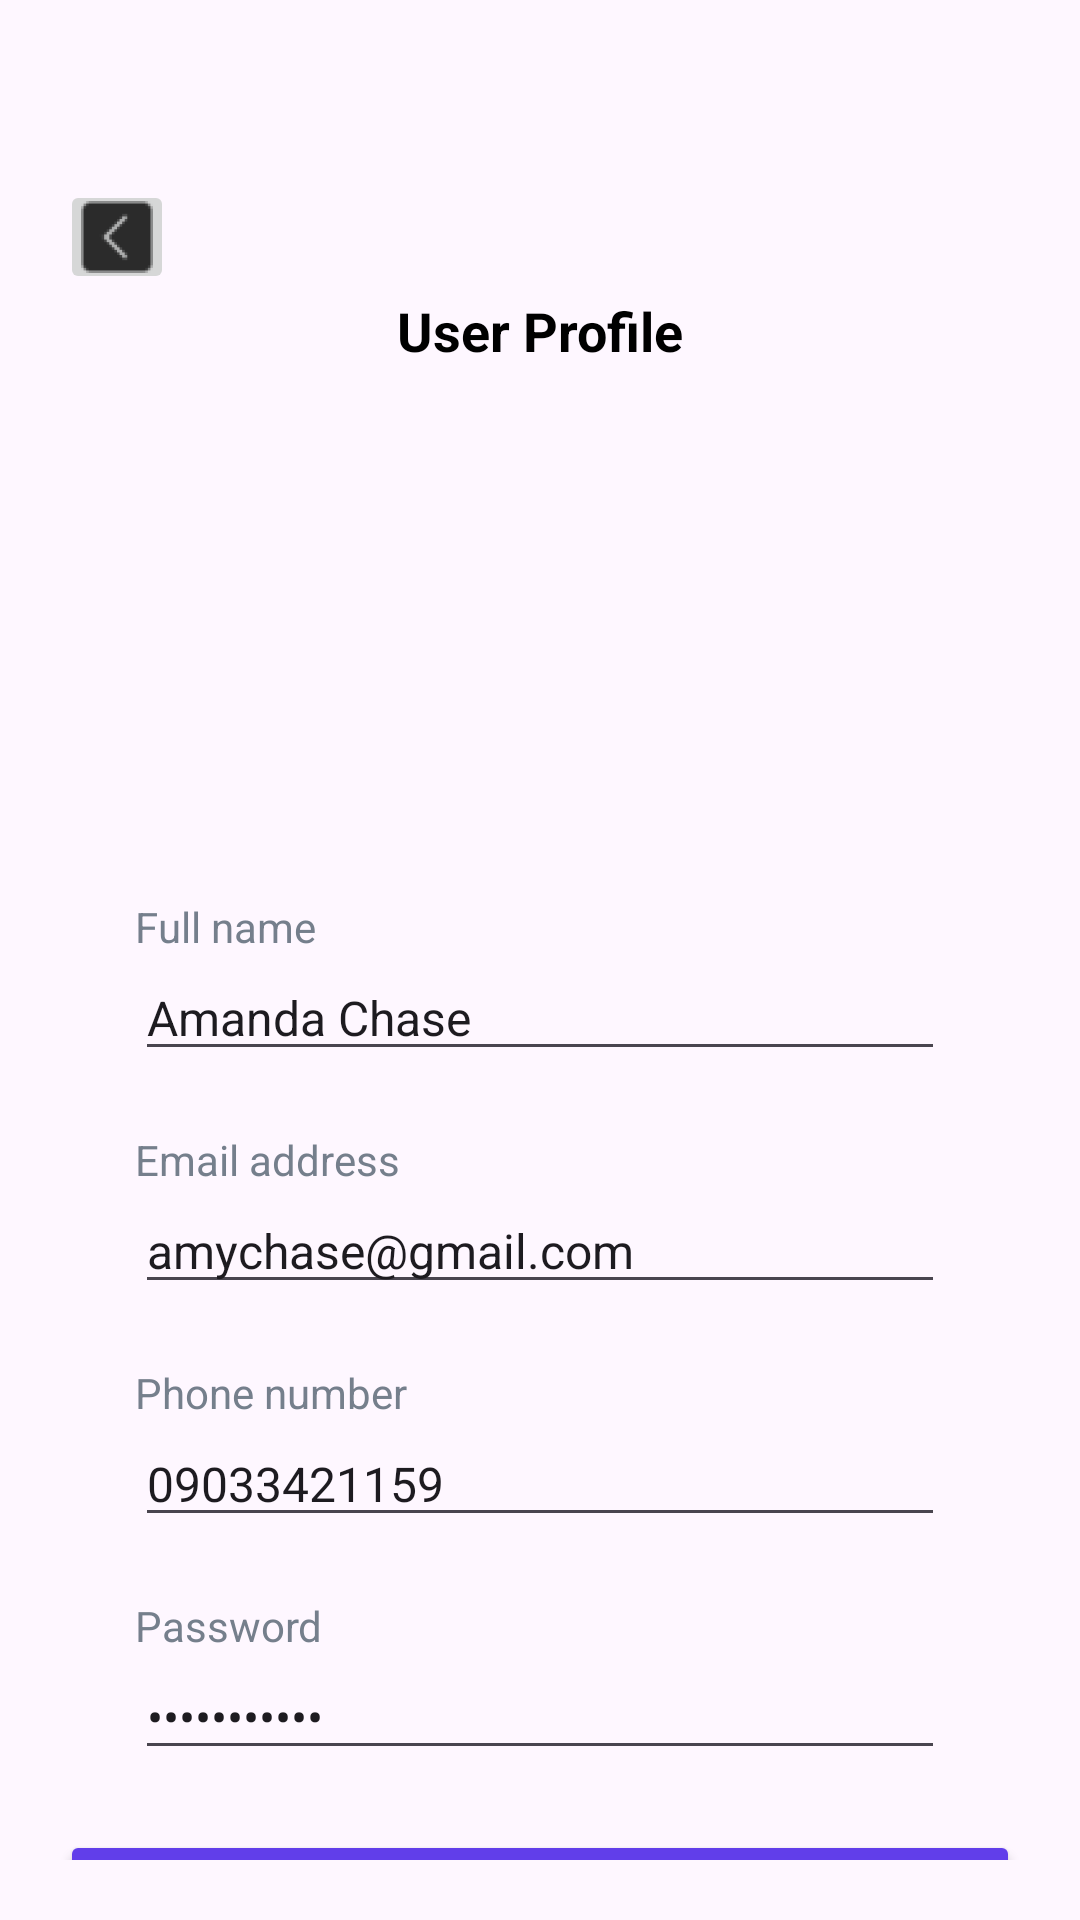

Screen size 1080w x 1920h. Icon name, then its center in pixels as [x,y]:
button for back: [117,237]
